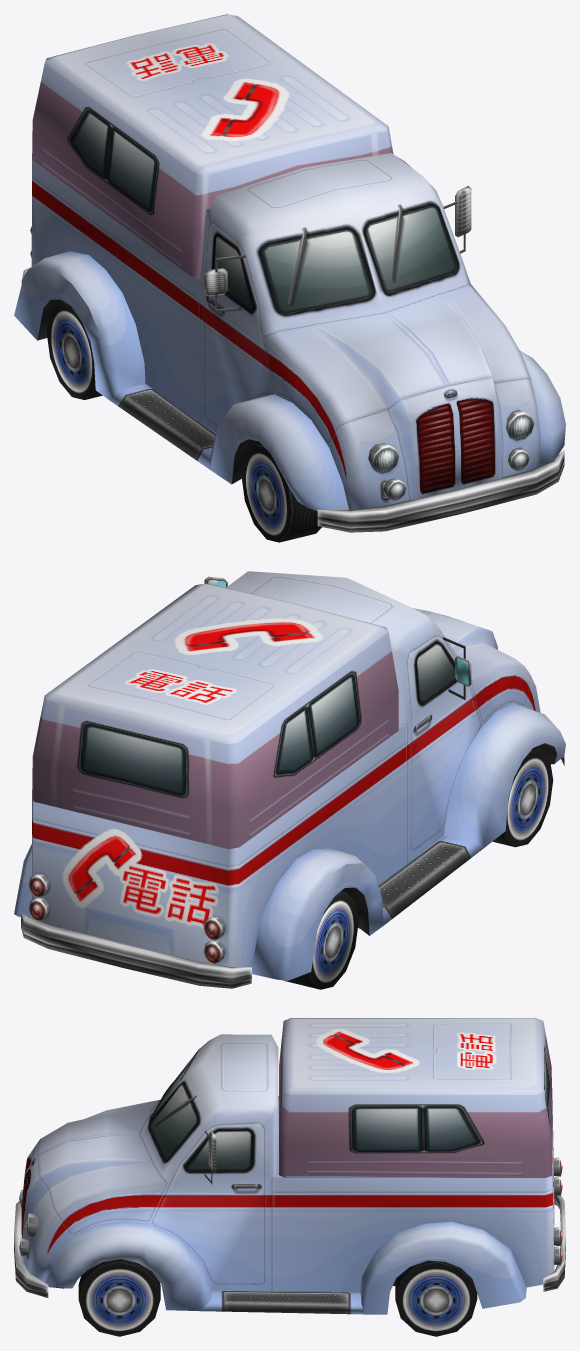
File: traf_van_tv.fbx
3 renders of one model, top to bottom at view 1: azimuth 30°, elevation 25°; view 2: azimuth 150°, elevation 25°; view 3: azimuth 270°, elevation 25°, orthographic. The views are drawn at different scales.
Visible parts, largest first — view 1: traf_van_tv; view 2: traf_van_tv; view 3: traf_van_tv.
Part boxes in pixels (x1,y1,x2,y2): traf_van_tv: (14, 14, 565, 542); traf_van_tv: (14, 571, 565, 989); traf_van_tv: (14, 1018, 565, 1336).
Bounding box in the file's own units: 208 × 208 × 446.
